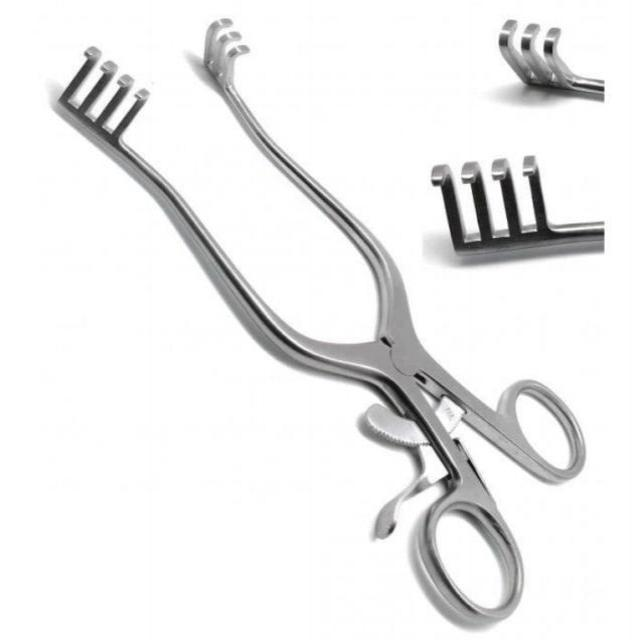Weitlaner: (51, 16, 589, 630), (428, 20, 604, 268)
